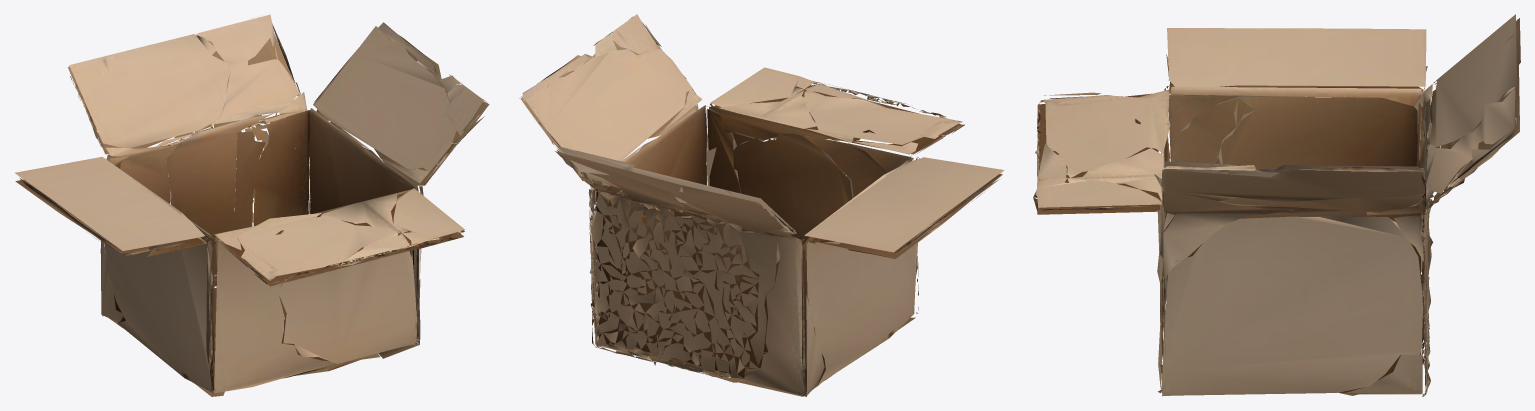
The model's file is box_open_lod2.glb.
3 renders of one model, left to right at view 1: azimuth 30°, elevation 25°; view 2: azimuth 150°, elevation 25°; view 3: azimuth 270°, elevation 25°, orthographic. The views are drawn at different scales.
Visible parts, largest first — view 1: node_0; view 2: node_0; view 3: node_0.
Part boxes in pixels (<box>): node_0: <box>15,14,489,396</box>; node_0: <box>519,14,1004,396</box>; node_0: <box>1033,14,1520,396</box>.
Size of the model in its own units: 1.68 by 1.04 by 1.6.
1 material, 1 textured.
